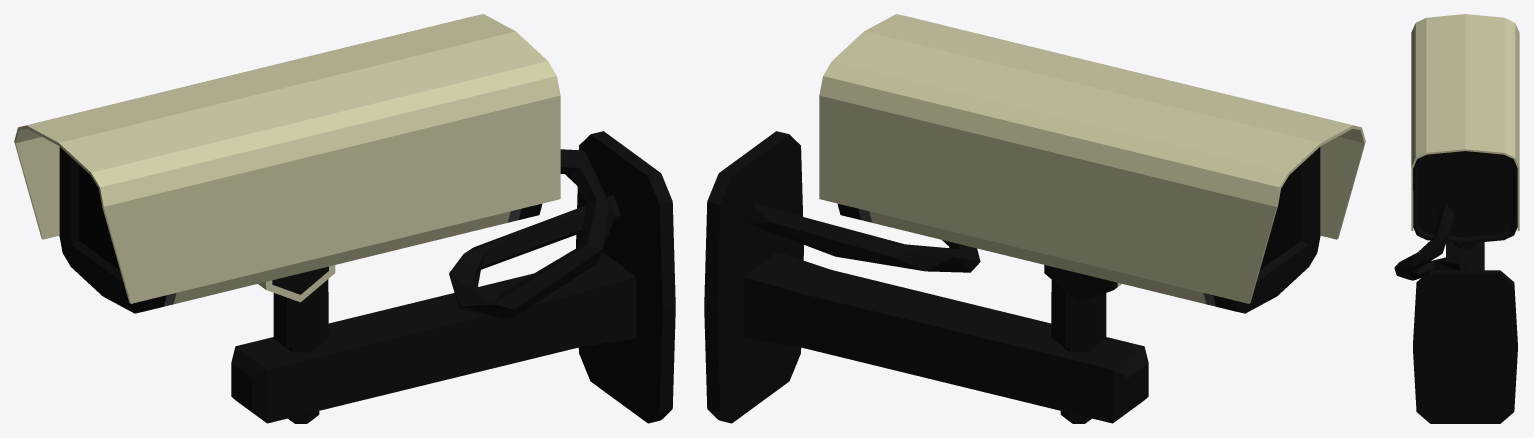
Rendered from security_camera.fbx.
3 views of the same model, side by side, from view 1: azimuth 30°, elevation 25°; view 2: azimuth 150°, elevation 25°; view 3: azimuth 270°, elevation 25° (orthographic). The views are drawn at different scales.
Visible parts, largest first — view 1: NurbsPath; view 2: NurbsPath; view 3: NurbsPath.
Part boxes in pixels (left/top/right/bottom): NurbsPath: left=14, top=14, right=675, bottom=423; NurbsPath: left=704, top=14, right=1365, bottom=423; NurbsPath: left=1394, top=14, right=1519, bottom=423.
Size of the model in its own units: 4.04 by 2.67 by 1.26.
